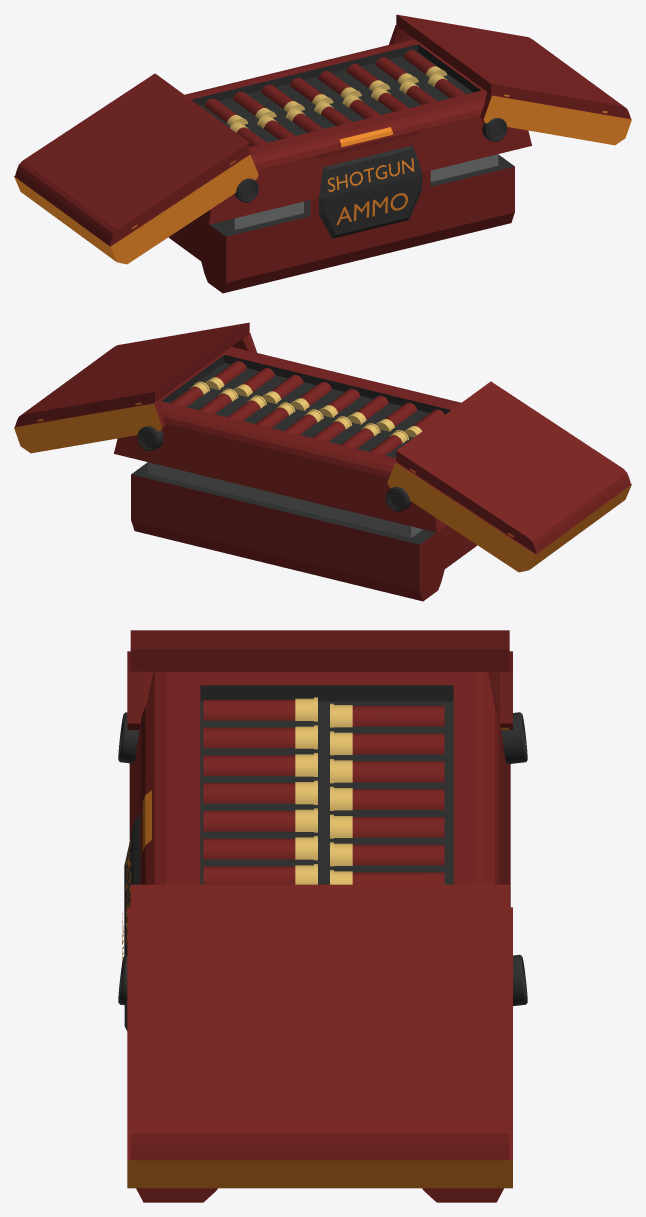
Rendered from Shotgun_Ammo_Box.fbx.
The picture shows the model from 3 angles, top to bottom: view 1: azimuth 30°, elevation 25°; view 2: azimuth 150°, elevation 25°; view 3: azimuth 270°, elevation 25°; orthographic projection. The views are drawn at different scales.
Visible parts, largest first — view 1: Boite.001, Porte.001, Cylinder.001, Cylinder, Roullis.001, Text_Ammo.001, Text_Ammo.003; view 2: Boite.001, Porte.001, Cylinder, Cylinder.001, Rouillis_2.001; view 3: Porte.001, Boite.001, Cylinder, Cylinder.001, Rouillis_2.001, Roullis.001.
Part boxes in pixels (bbox=[...]): Boite.001: bbox=[168, 38, 531, 293]; Porte.001: bbox=[14, 14, 631, 264]; Cylinder.001: bbox=[204, 50, 446, 125]; Cylinder: bbox=[230, 73, 465, 146]; Roullis.001: bbox=[234, 118, 507, 202]; Text_Ammo.001: bbox=[328, 158, 414, 191]; Text_Ammo.003: bbox=[336, 193, 407, 225]; Boite.001: bbox=[114, 346, 477, 601]; Porte.001: bbox=[14, 322, 631, 572]; Cylinder: bbox=[205, 361, 444, 437]; Cylinder.001: bbox=[170, 381, 408, 455]; Rouillis_2.001: bbox=[137, 426, 411, 511]; Porte.001: bbox=[127, 630, 512, 1188]; Boite.001: bbox=[124, 672, 510, 1202]; Cylinder: bbox=[203, 697, 317, 884]; Cylinder.001: bbox=[330, 703, 444, 884]; Rouillis_2.001: bbox=[501, 712, 527, 1005]; Roullis.001: bbox=[118, 712, 138, 1005].
Size of the model in its own units: 63.26 by 17.08 by 21.5.
